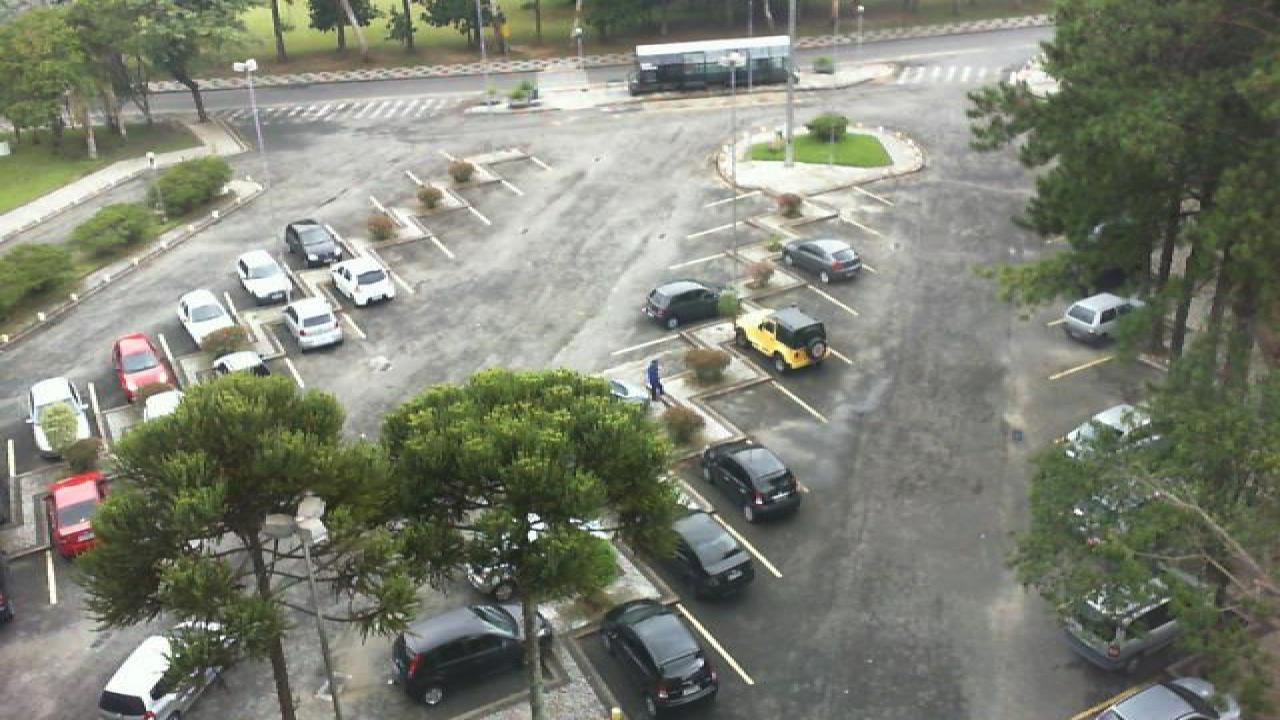Car: (598, 596, 724, 720), (388, 600, 532, 706), (94, 633, 236, 720), (1060, 579, 1180, 674), (654, 511, 758, 602), (700, 442, 804, 524), (730, 305, 834, 373), (1086, 675, 1238, 720), (44, 470, 108, 558), (26, 374, 94, 456), (638, 278, 728, 330), (1060, 292, 1146, 346), (112, 333, 176, 401), (780, 236, 868, 284), (174, 286, 242, 348), (330, 253, 396, 307), (282, 297, 346, 352), (232, 248, 294, 301), (282, 218, 342, 269), (208, 350, 274, 381), (142, 388, 190, 423)
